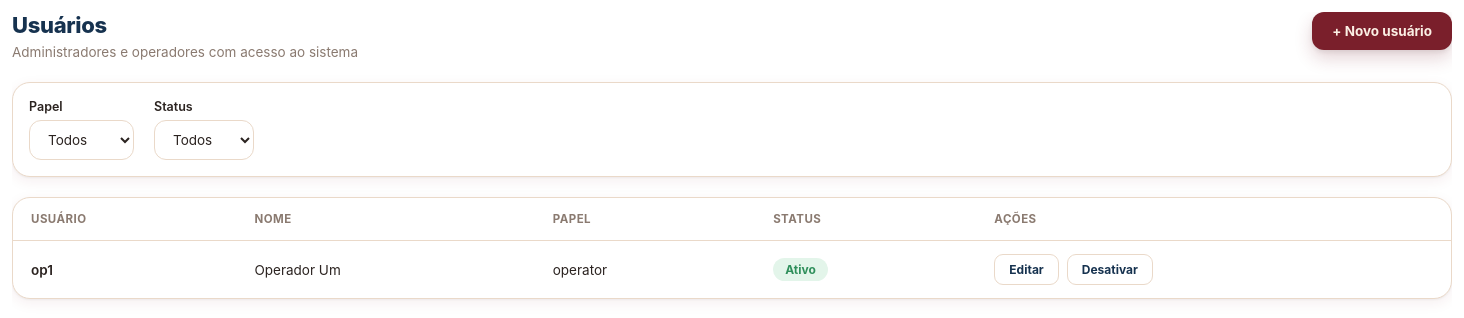
UsersListScreen › desativa e reativa um usuário
This screenshot has width=1464, height=318.
Expected: the text "op1" is shown, [13, 241, 236, 298]
Click the button with test id "deactivate-user-1".
click(1110, 270)  # box [1067, 254, 1153, 285]
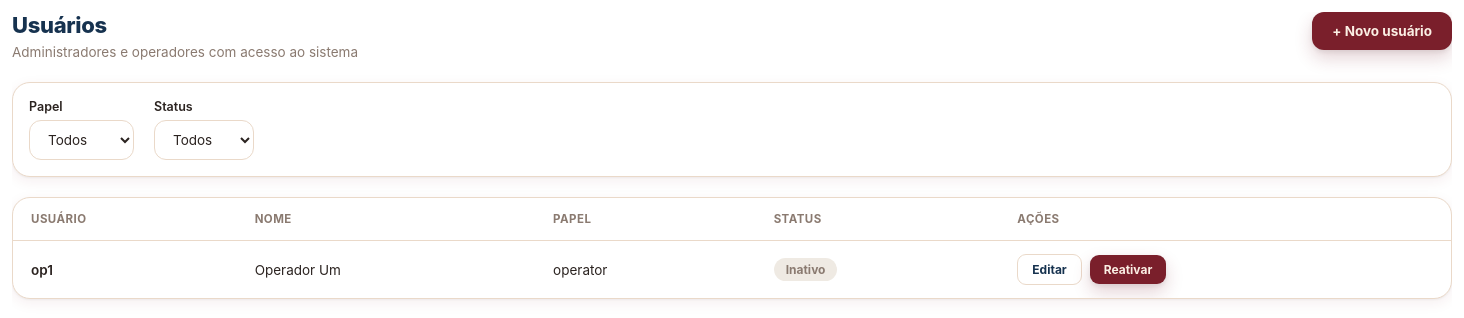
Expected: the button with test id "reactivate-user-1" is shown
Click the button with test id "reactivate-user-1".
click(1128, 270)  # box [1090, 255, 1166, 284]
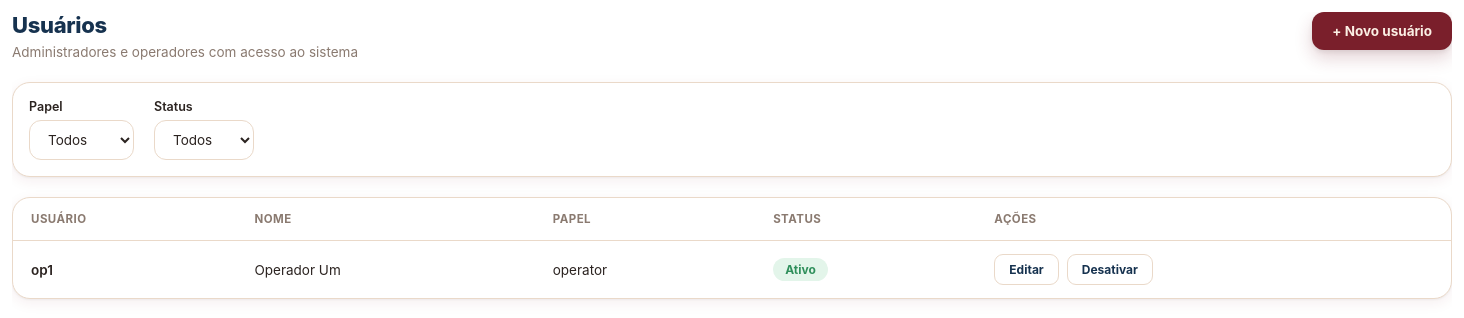
Expected: the button with test id "deactivate-user-1" is shown, [1067, 254, 1153, 285]
